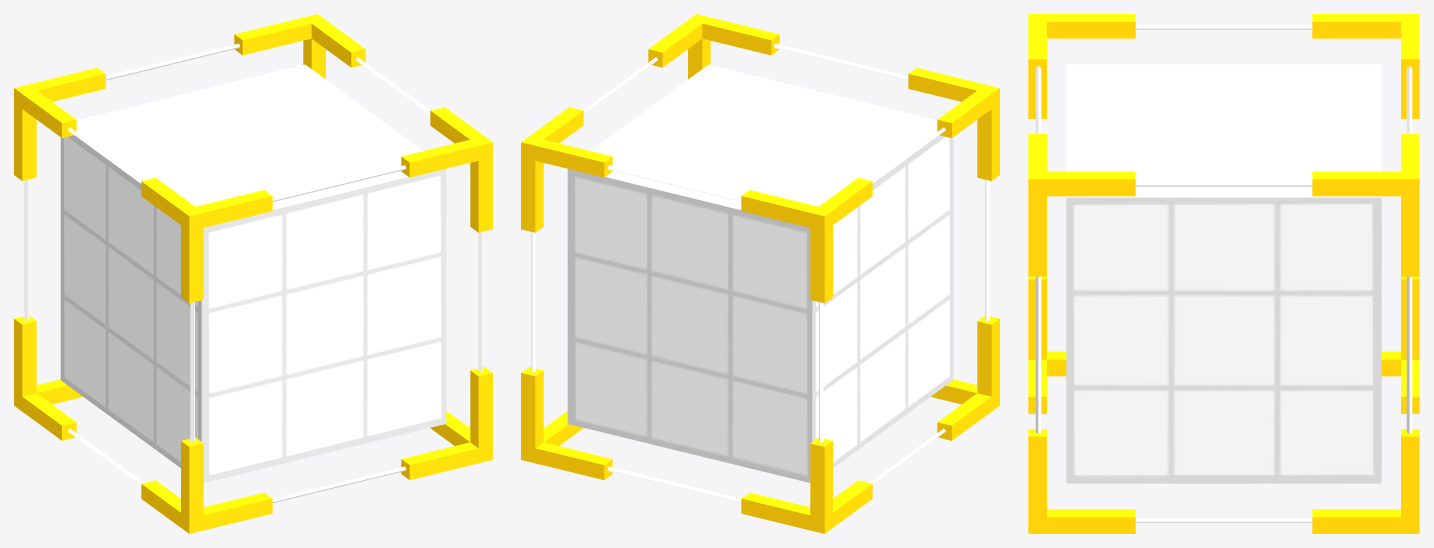
The model's file is default_icon.glb.
3 views of the same model, side by side, from view 1: azimuth 30°, elevation 25°; view 2: azimuth 150°, elevation 25°; view 3: azimuth 270°, elevation 25° (orthographic). The views are drawn at different scales.
Visible parts, largest first — view 1: realitycomposer; view 2: realitycomposer; view 3: realitycomposer.
Part boxes in pixels (x1=…): realitycomposer: x1=14, y1=14, x2=492, y2=533; realitycomposer: x1=521, y1=14, x2=999, y2=533; realitycomposer: x1=1028, y1=14, x2=1419, y2=533.
Size of the model in its own units: 1 by 1 by 1.
1 material, 1 textured.
